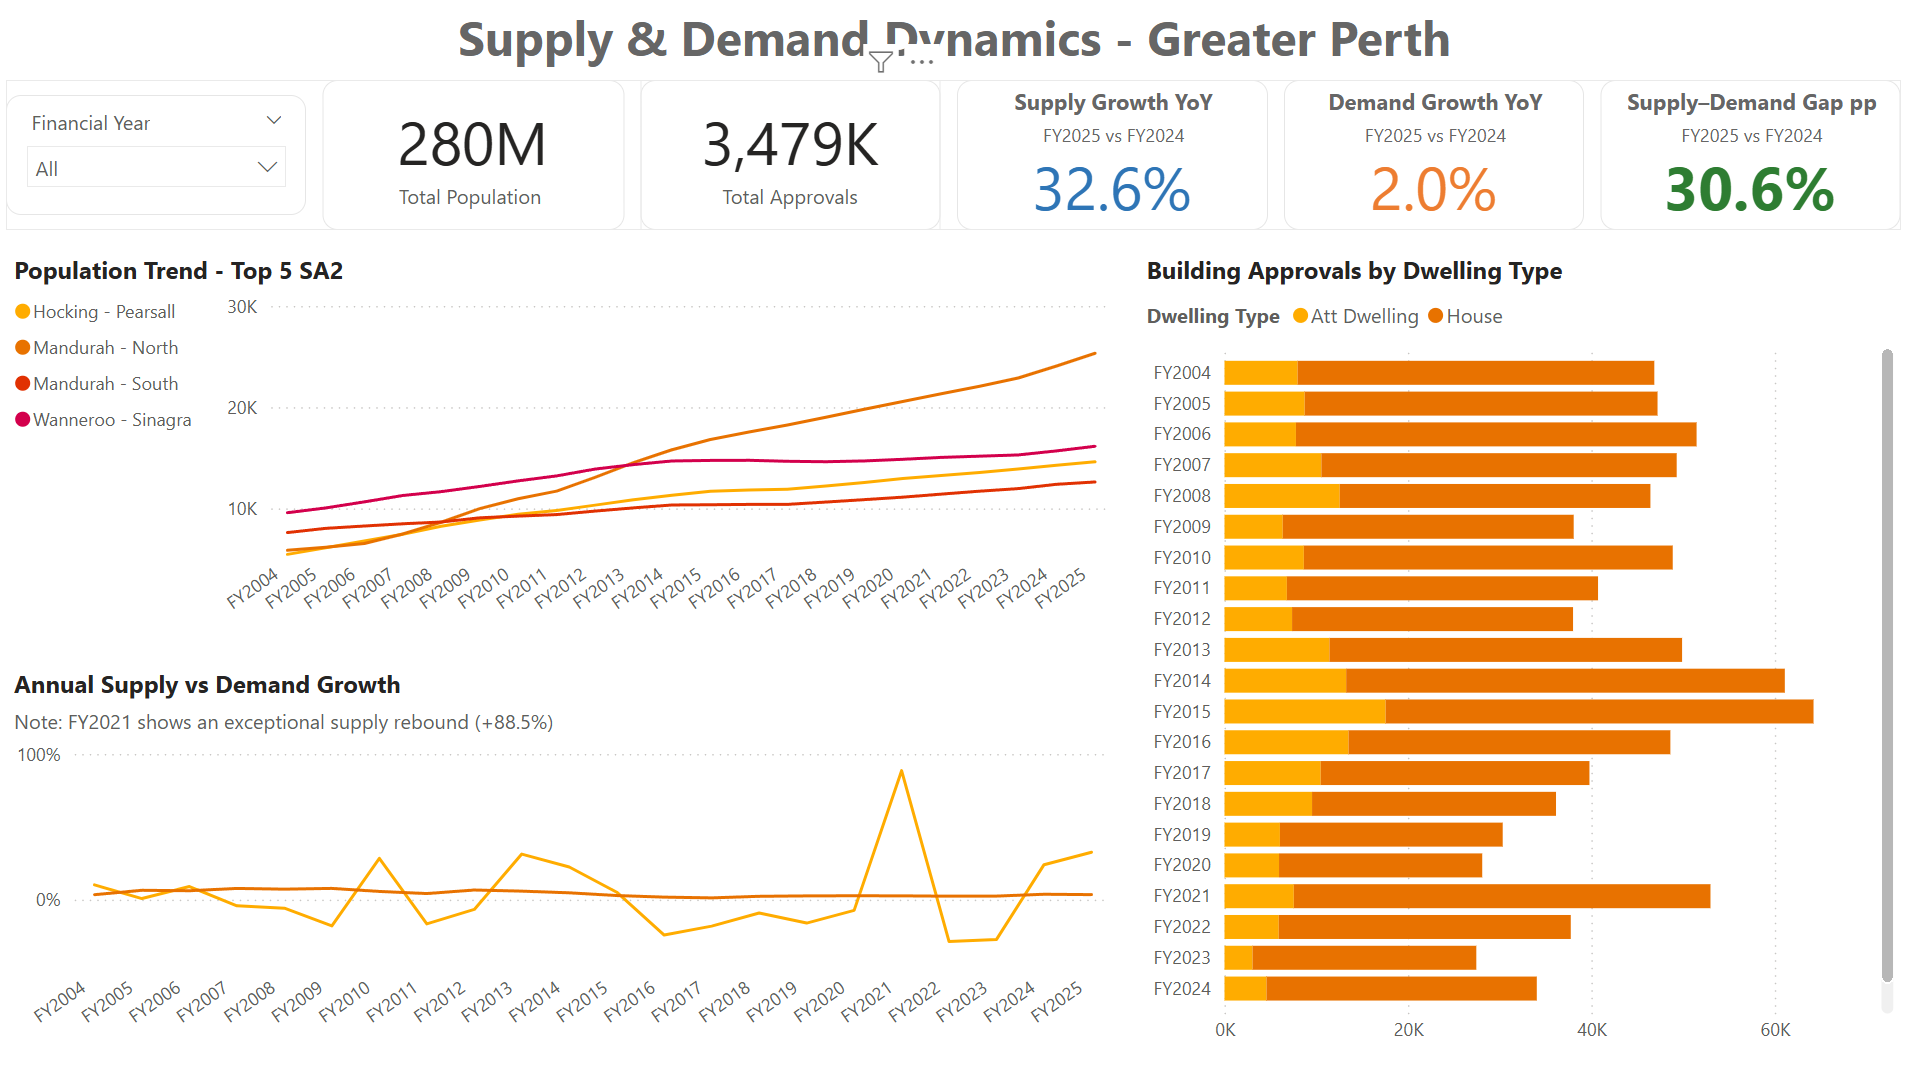

This screenshot's page, from the dashboard's own definition file:
{"tool":"powerbi","page":{"name":"Supply & Demand Insights","canvas":[1280,720],"ordinal":4},"visuals":[{"type":"textbox","box":[0,0,1280.4,56.8],"z":0},{"type":"slicer","fields":{"Values":["dim_date.FinancialYear1"]},"box":[7.8,66.4,200.2,80],"z":1000,"group":"g1"},{"type":"card","title":"Supply Growth YoY","fields":{"Values":["My Measures.Approvals YoY (KPI)"]},"box":[642.2,56.4,206.2,100],"z":2000,"group":"g1"},{"type":"lineChart","title":"Population Trend - Top 5 SA2 ","fields":{"Y":["My Measures.Population Perth SA2"],"Category":["dim_date.FinancialYear"],"Series":["dim_sa2 (2).SA2Name"]},"box":[7.8,171.2,741.2,259.7],"z":2000},{"type":"barChart","title":"Building Approvals by Dwelling Type ","fields":{"Category":["dim_date.FinancialYear1"],"Series":["dim_dwelling_type.DwellingType"],"Y":["My Measures.Total Approvals"]},"box":[762.6,171.2,508.7,535.9],"z":3000},{"type":"card","title":"Supply–Demand Gap pp","fields":{"Values":["My Measures.Supply–Demand Gap (KPI)"]},"box":[1071.1,56.4,200.2,100],"z":4000,"group":"g1"},{"type":"lineChart","title":"Annual Supply vs Demand Growth","fields":{"Category":["dim_date.FinancialYear1"],"Y":["My Measures.Approvals YoY","My Measures.Population YoY"]},"box":[7.8,447.4,741.2,259.7],"z":4000},{"type":"group","id":"g1","title":"Group 1","box":[7.8,56.4,1263.5,100],"z":5000},{"type":"card","fields":{"Values":["My Measures.Total Approvals"]},"box":[430.7,56.4,200.2,100],"z":8000,"group":"g1"},{"type":"card","title":"Demand Growth YoY","fields":{"Values":["My Measures.Population YoY (KPI)"]},"box":[859.6,56.4,200.2,100],"z":9000,"group":"g1"},{"type":"card","fields":{"Values":["My Measures.Population Perth SA2"]},"box":[219.3,56.4,200.2,100],"z":11001,"group":"g1"}]}

Visuals, with their boxes in screenshot pixels (x1, y1, x2, y2), scaled from the page's 1280x720 canvas onto the 1907x1071 screenshot:
textbox: 0,0,1906,84
slicer - dim_date.FinancialYear1: 12,99,310,218
"Supply Growth YoY" card: 957,84,1264,233
"Population Trend - Top 5 SA2 " lineChart: 12,255,1116,641
"Building Approvals by Dwelling Type " barChart: 1136,255,1894,1052
"Supply–Demand Gap pp" card: 1596,84,1894,233
"Annual Supply vs Demand Growth" lineChart: 12,666,1116,1052
"Group 1" group: 12,84,1894,233
card - My Measures.Total Approvals: 642,84,940,233
"Demand Growth YoY" card: 1281,84,1579,233
card - My Measures.Population Perth SA2: 327,84,625,233
